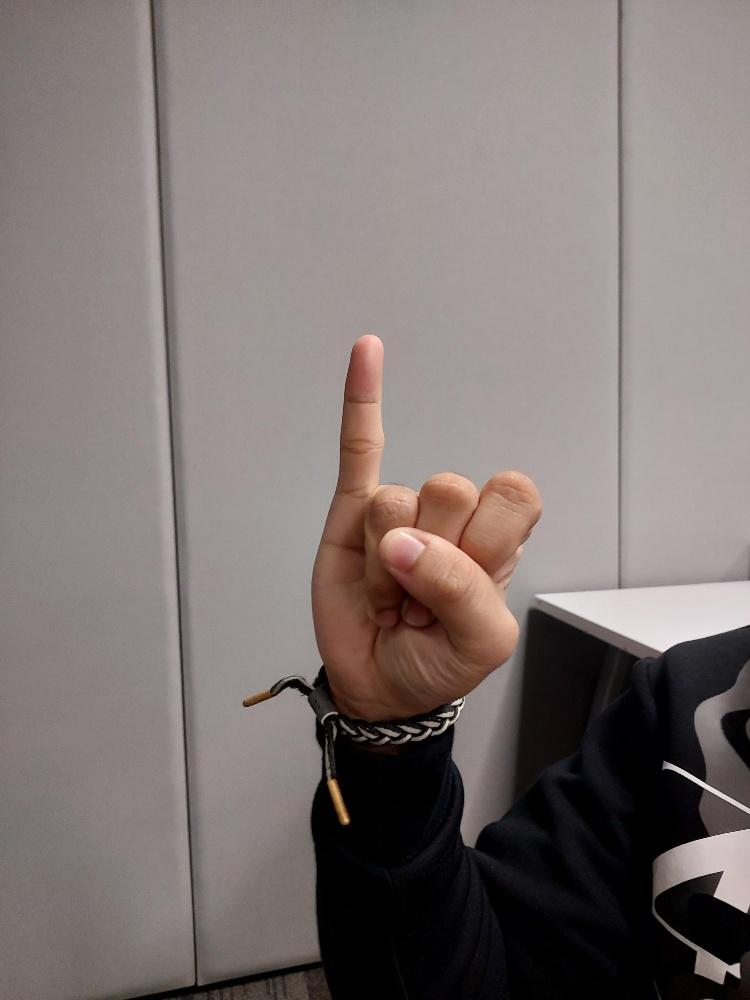i: (307, 331, 542, 743)
